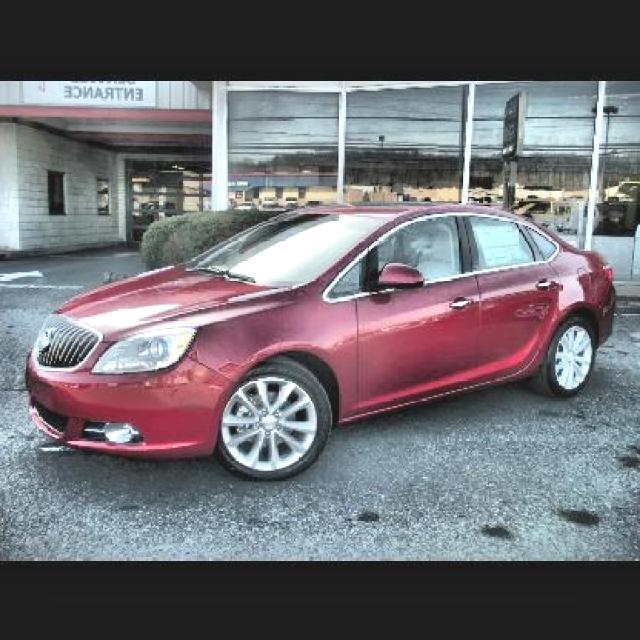maroon: (23, 205, 614, 480)
